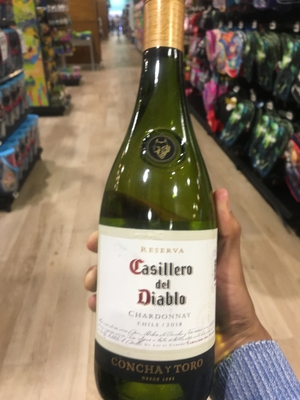casillero del diablo chardonnay: (89, 30, 219, 400)
